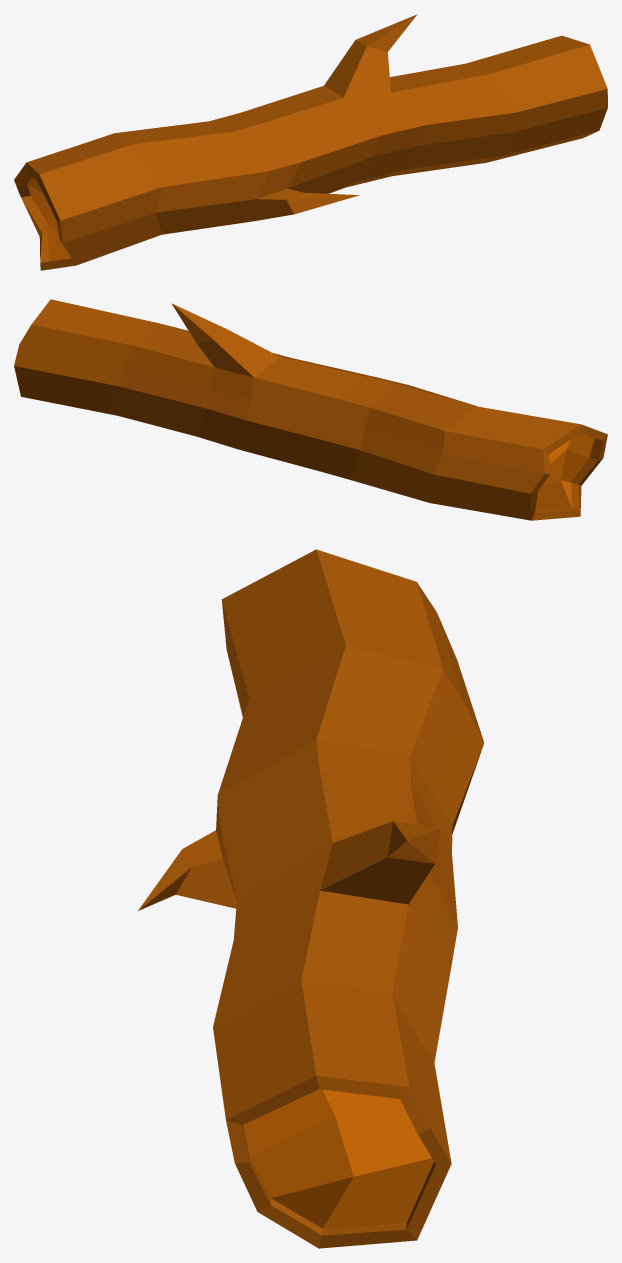
The model's file is Kotty.fbx.
3 views of the same model, one above another, from view 1: azimuth 30°, elevation 25°; view 2: azimuth 150°, elevation 25°; view 3: azimuth 270°, elevation 25° (orthographic). The views are drawn at different scales.
Visible parts, largest first — view 1: Kotty; view 2: Kotty; view 3: Kotty.
Part boxes in pixels (x1=…): Kotty: x1=14, y1=14, x2=607, y2=270; Kotty: x1=14, y1=299, x2=607, y2=520; Kotty: x1=138, y1=549, x2=484, y2=1248.
Bounding box in the file's own units: 8.37 × 2.33 × 2.03.
